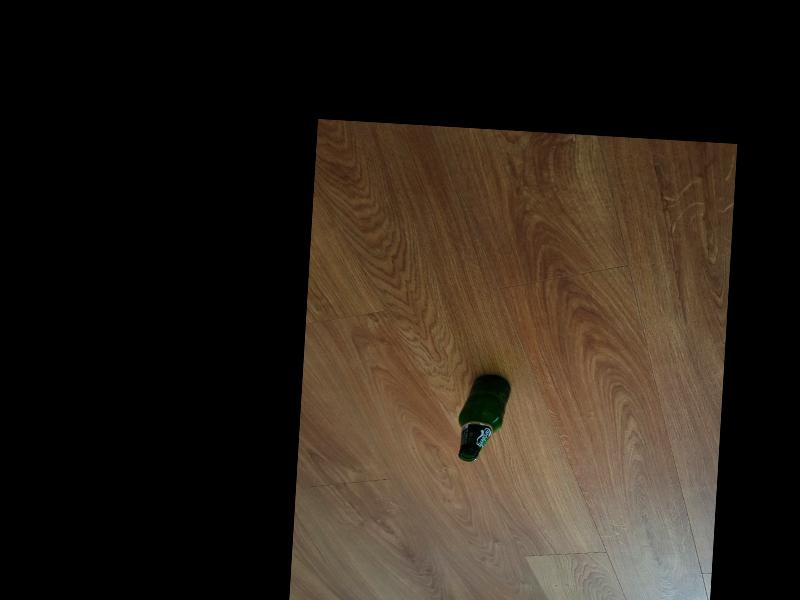Beer: (455, 372, 512, 464)
